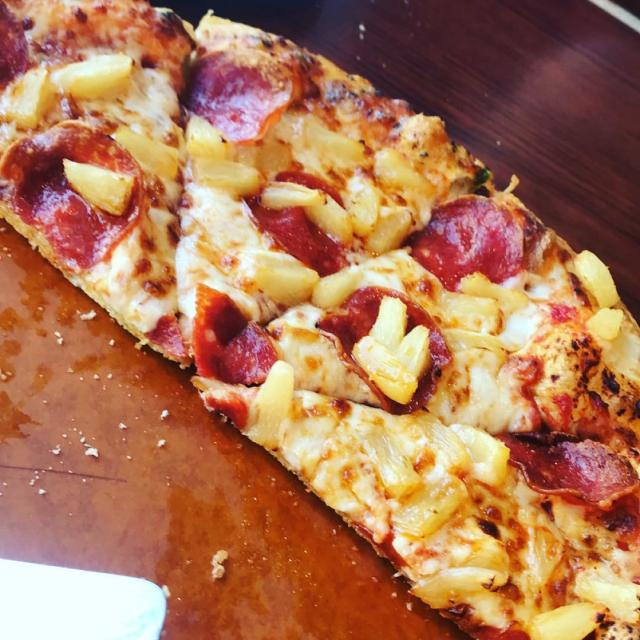pepperoni: (0, 118, 149, 275), (314, 277, 453, 419), (488, 426, 640, 509), (180, 46, 300, 148), (408, 193, 528, 294), (250, 169, 357, 277), (190, 280, 287, 390), (0, 0, 31, 99)
pizza: (0, 0, 640, 640)
